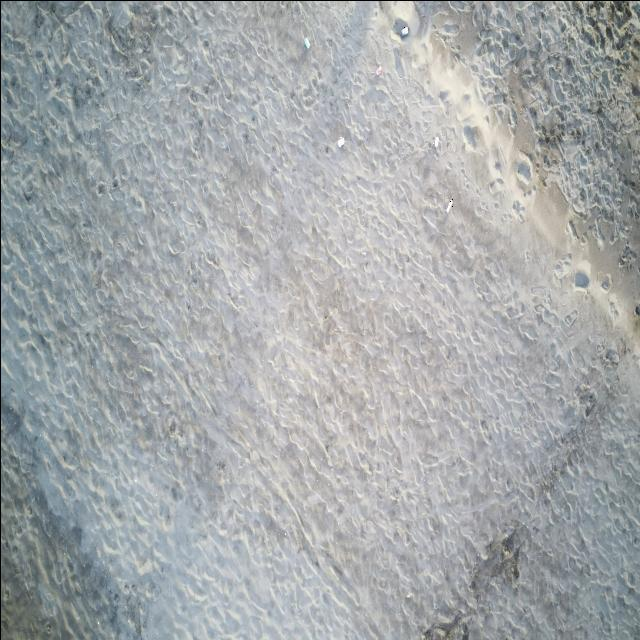Garbage: (392, 18, 407, 37), (575, 272, 587, 287), (336, 136, 344, 147), (303, 36, 310, 48), (446, 199, 452, 212), (375, 64, 382, 75), (400, 26, 407, 35), (433, 138, 439, 148), (635, 303, 639, 316)
